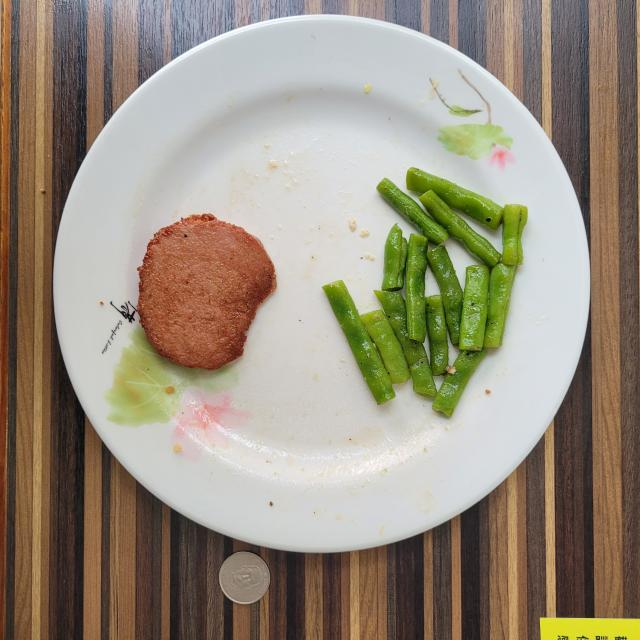Spam: (138, 214, 276, 370)
coin: (219, 551, 270, 604)
